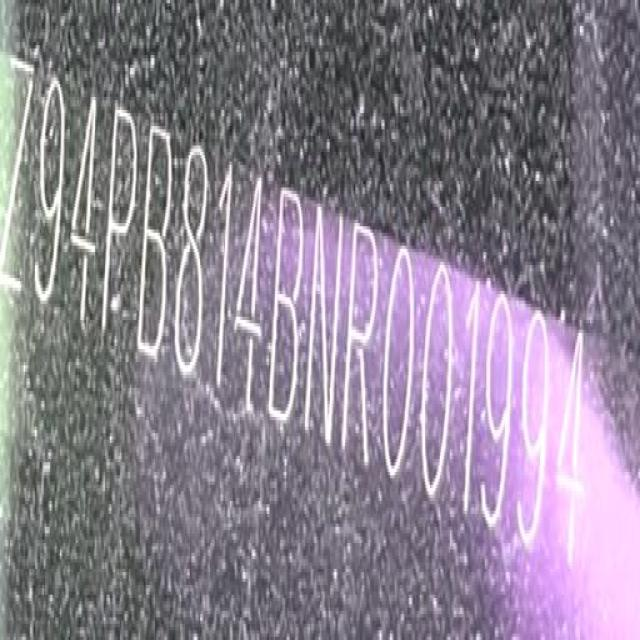0: (419, 257, 455, 503), (385, 246, 421, 487)
1: (456, 270, 480, 524), (212, 159, 234, 401)
4: (67, 84, 104, 335), (549, 330, 588, 564), (234, 172, 267, 419)
8: (177, 137, 210, 386)
9: (514, 308, 554, 558), (32, 69, 68, 313), (480, 295, 516, 538)
B: (271, 185, 308, 435), (138, 117, 172, 369)
N: (306, 203, 344, 453)
P: (106, 99, 139, 349)
R: (346, 220, 384, 471)
Z: (0, 39, 32, 304)
